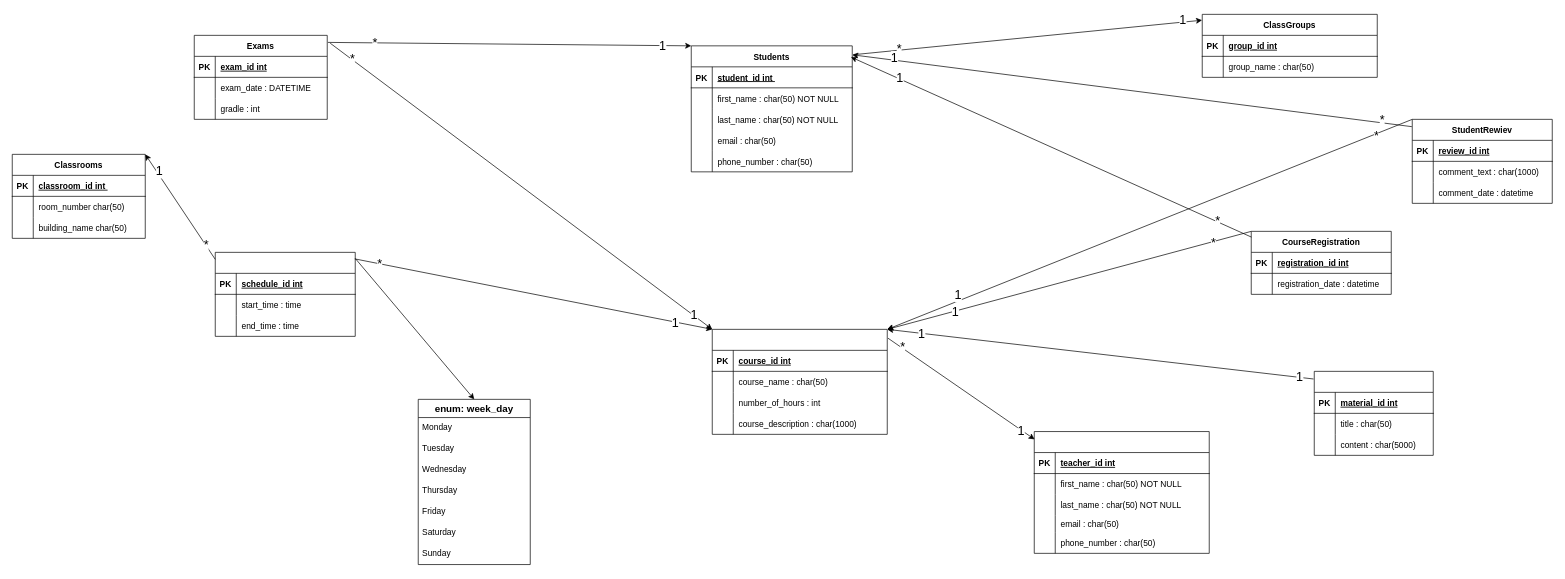
The diagram is 1565 pixels wide and 579 high, and some of its shapes have lost their labels. Each missing label, with the box of its shape:
CourseMaterial: (1314, 371, 1433, 455)
Courses: (712, 329, 887, 434)
Schedules: (215, 252, 355, 336)
Teachers: (1034, 431, 1209, 553)
